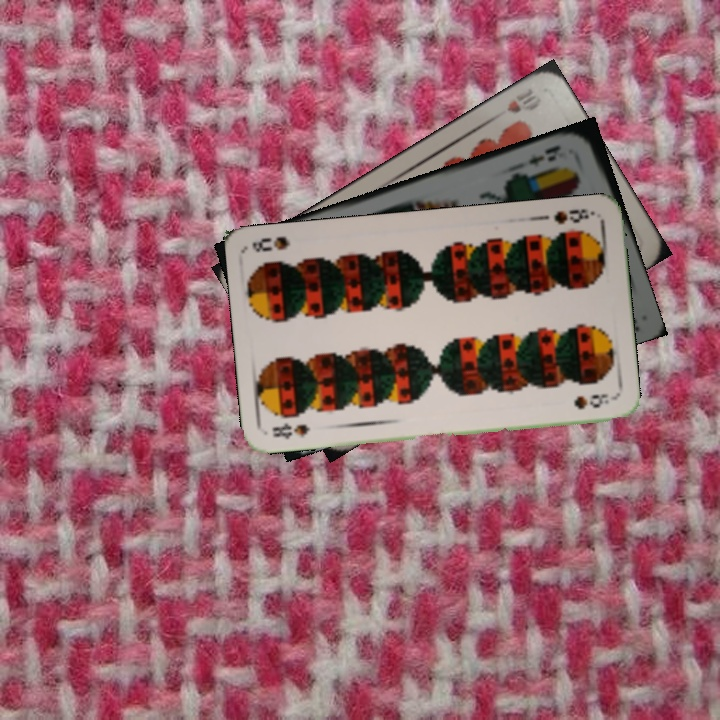EK: (525, 141, 563, 171)
H10: (503, 83, 539, 116)
S8: (550, 205, 597, 227), (268, 419, 313, 441)
